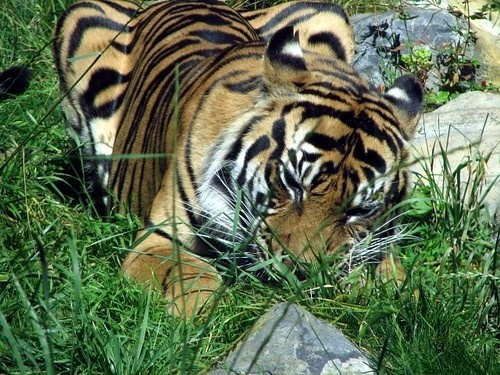tigre: (49, 1, 432, 324)
